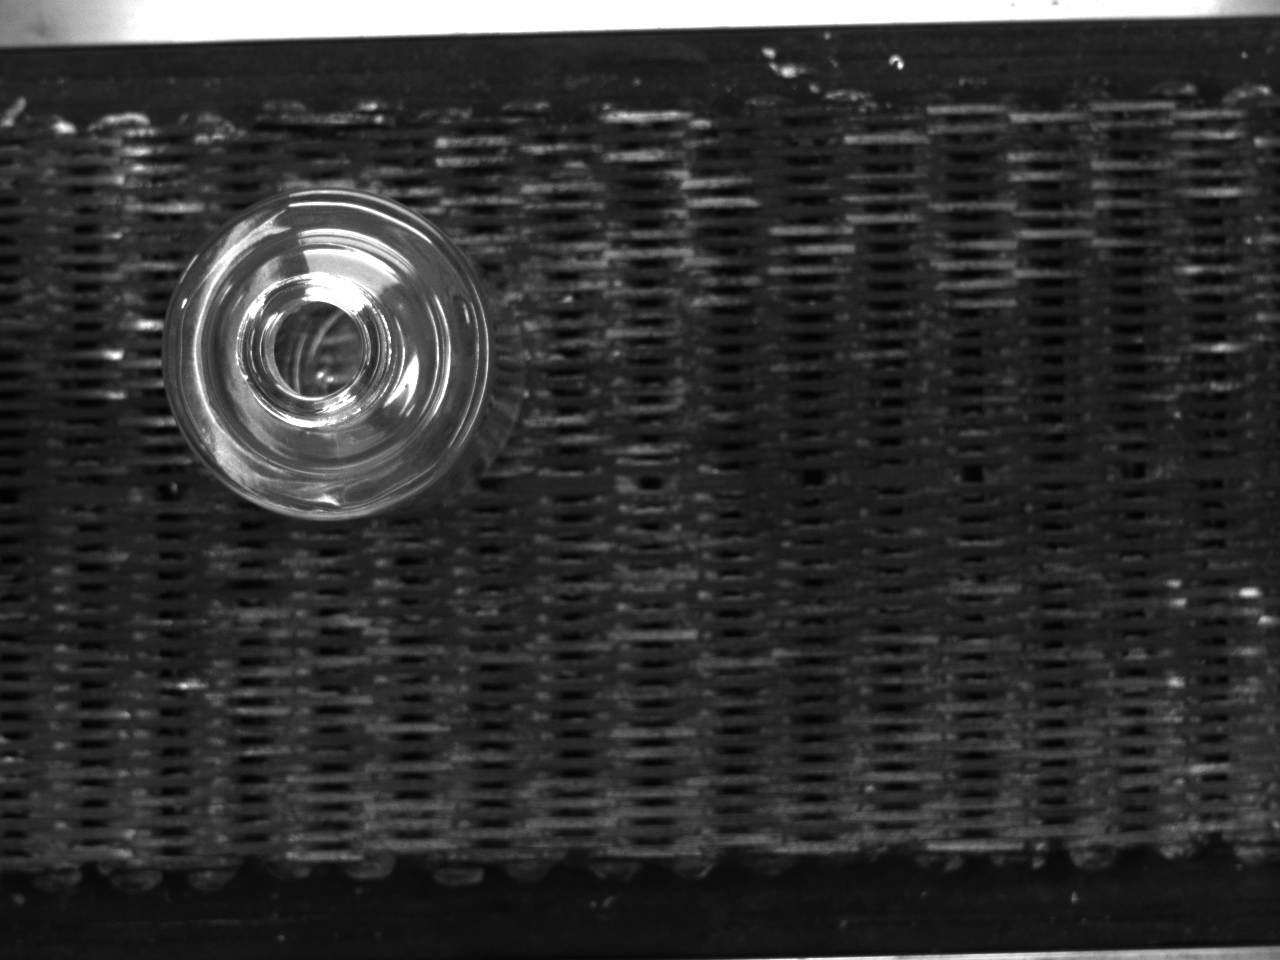bottleneck: (238, 274, 393, 428)
